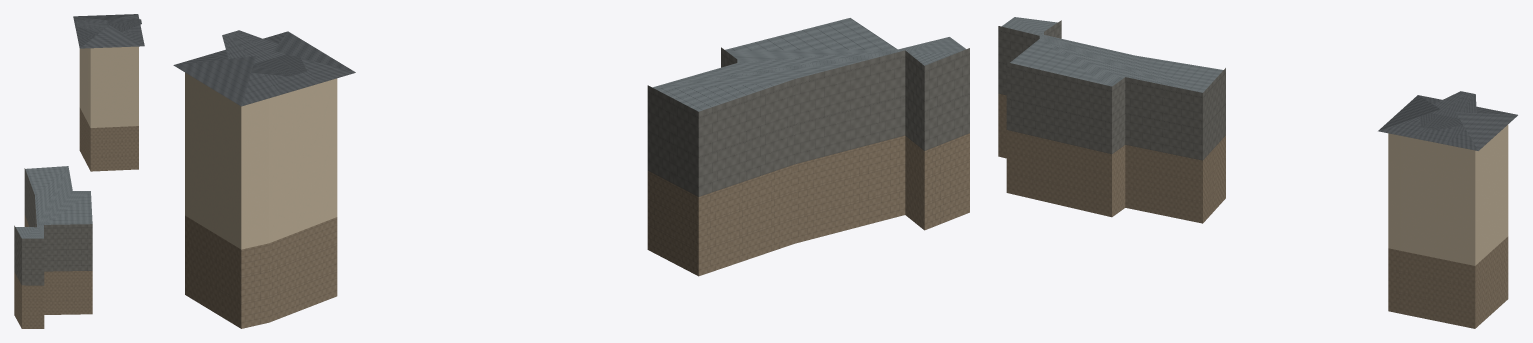
Rendered from bld_c31_-40_460.gltf.
The picture shows the model from 3 angles, left to right: view 1: azimuth 30°, elevation 25°; view 2: azimuth 150°, elevation 25°; view 3: azimuth 270°, elevation 25°; orthographic projection. The views are drawn at different scales.
Visible parts, largest first — view 1: bld_c31_-40_460; view 2: bld_c31_-40_460; view 3: bld_c31_-40_460.
Boxes of the visible parts, x1=… form: bld_c31_-40_460: x1=14, y1=14, x2=144, y2=328; bld_c31_-40_460: x1=173, y1=18, x2=969, y2=328; bld_c31_-40_460: x1=998, y1=17, x2=1517, y2=328.
Bounding box in the file's own units: 33.93 × 16.3 × 38.17.
6 materials, 6 textured.
